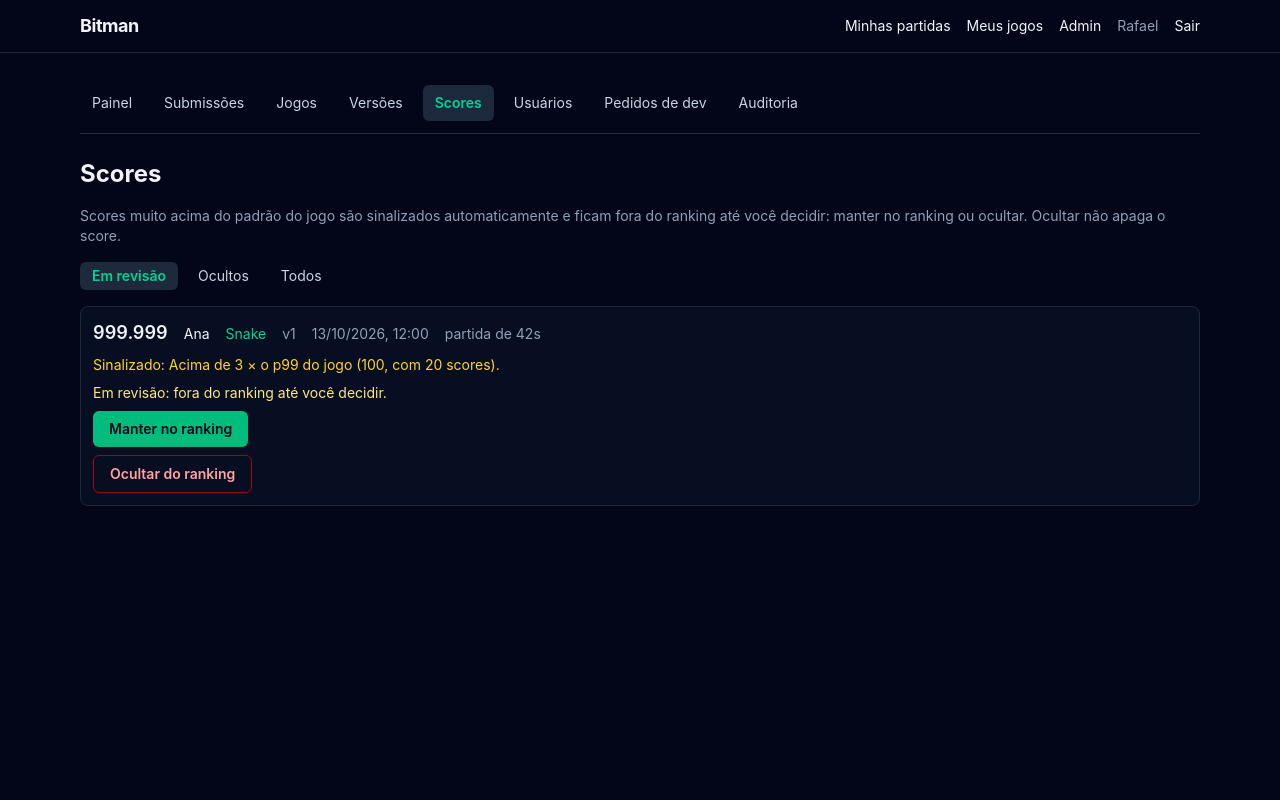
it: moderação de scores (S2) › lista os sinalizados por padrão e oculta com motivo
This screenshot has width=1280, height=800.
Expected: the list item with aria-label "Score de Ana em Snake" shows "999.999", [93,322,168,343]
Expected: the list item with aria-label "Score de Ana em Snake" shows "partida de 42s", [80,306,1200,506]
Click the button "Ocultar do ranking" at (173, 474), box [93,455,252,493]
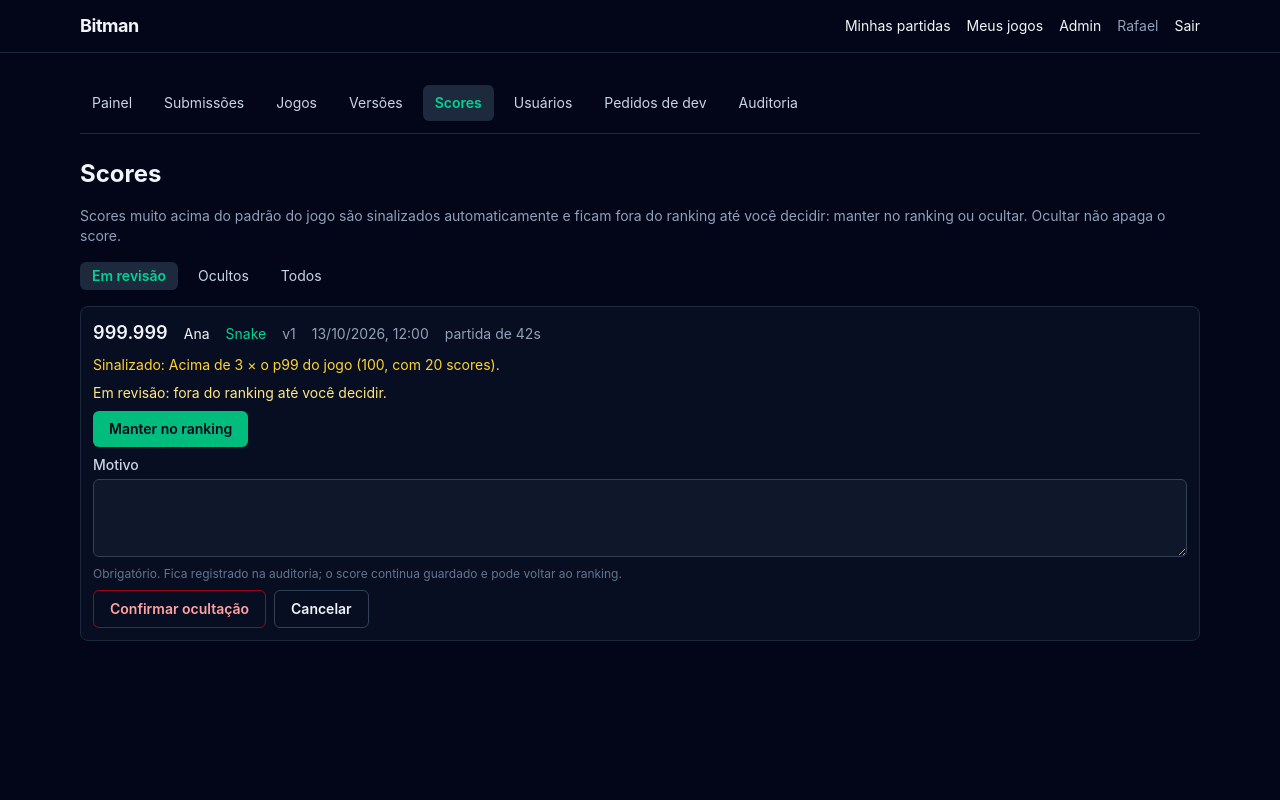
Type "Impossível." into the text box labelled "Motivo" at (640, 518), box [93,479,1187,557]
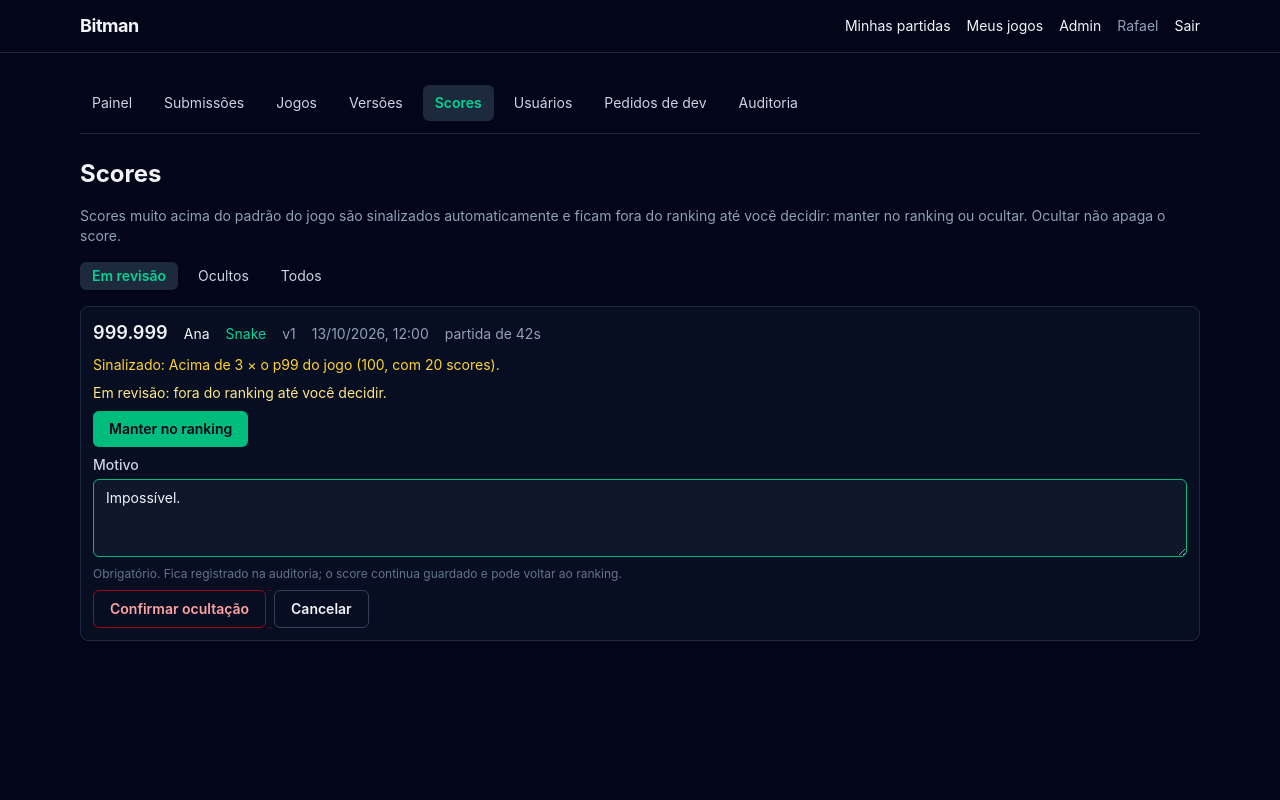
Click the button "Confirmar ocultação" at (180, 609), box [93,590,266,628]
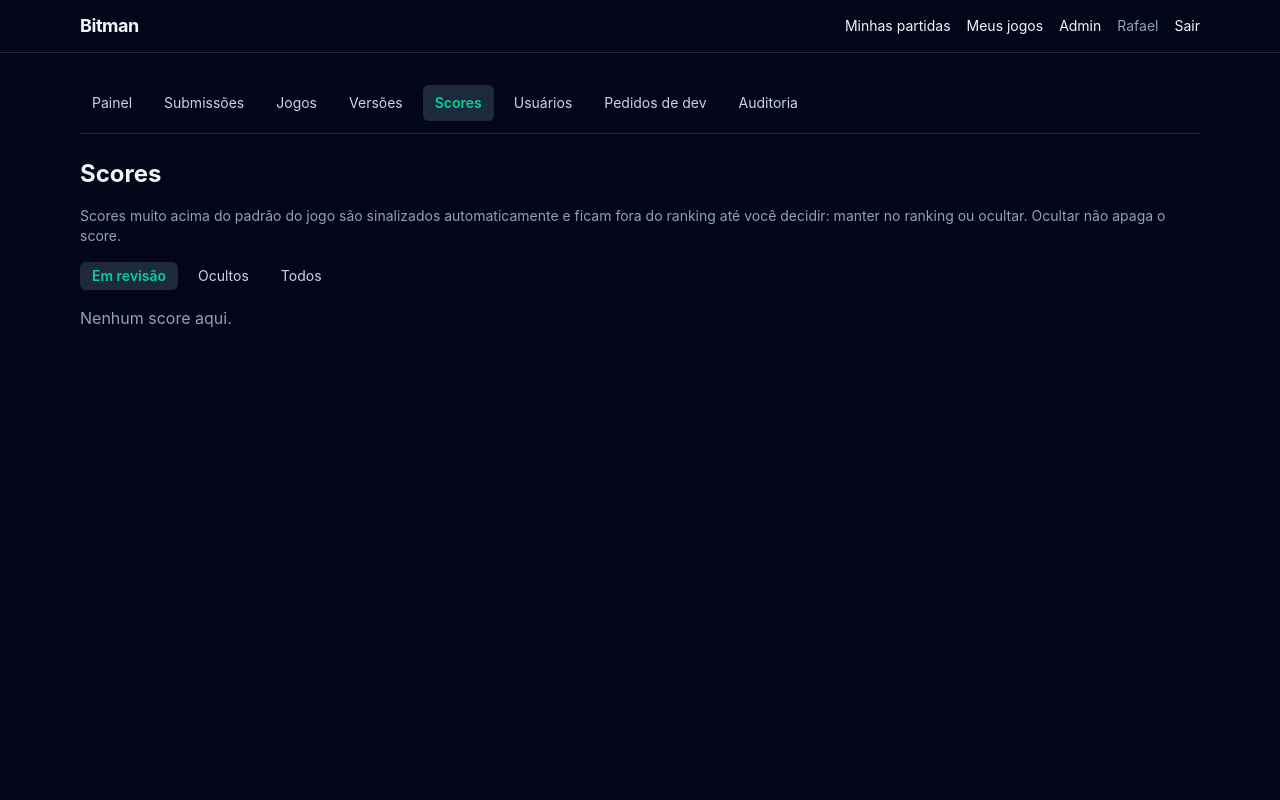
Expected: the text "Nenhum score aqui." is shown, [80,308,232,328]
